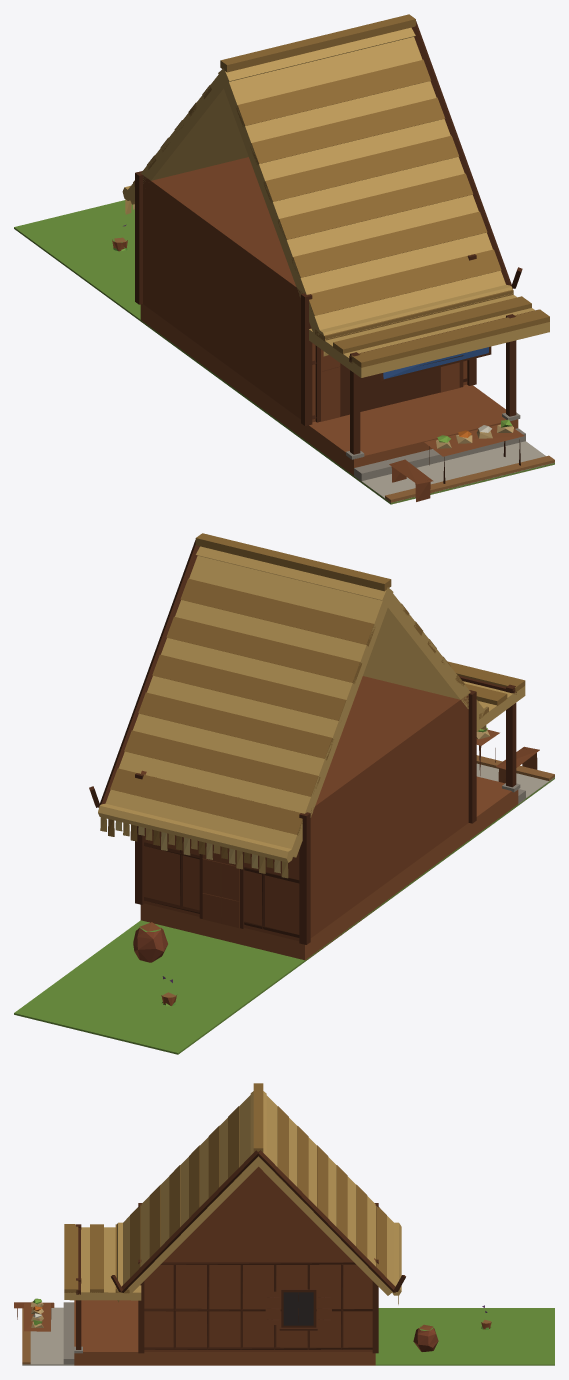
File: bay1_right.glb
3 views of the same model, one above another, from view 1: azimuth 30°, elevation 25°; view 2: azimuth 150°, elevation 25°; view 3: azimuth 270°, elevation 25° (orthographic). The views are drawn at different scales.
Visible parts, largest first — view 1: body; view 2: body; view 3: body, windows.
Part boxes in pixels (left/top/right/bottom): body: left=14, top=14, right=554, bottom=504; body: left=14, top=533, right=554, bottom=1054; body: left=14, top=1083, right=554, bottom=1365; windows: left=283, top=1292, right=313, bottom=1325.
Size of the model in its own units: 4.86 by 7.62 by 16.15.
